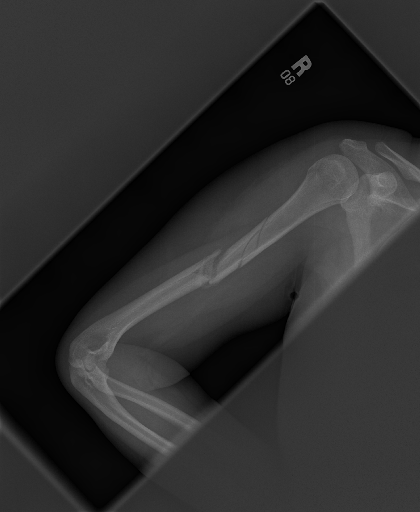fracture: (234, 207, 281, 273), (187, 239, 232, 300)
